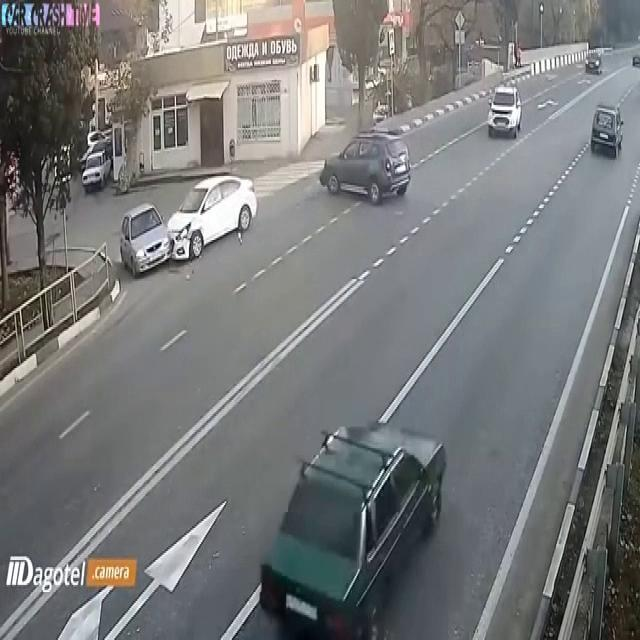accident: (120, 187, 235, 278)
